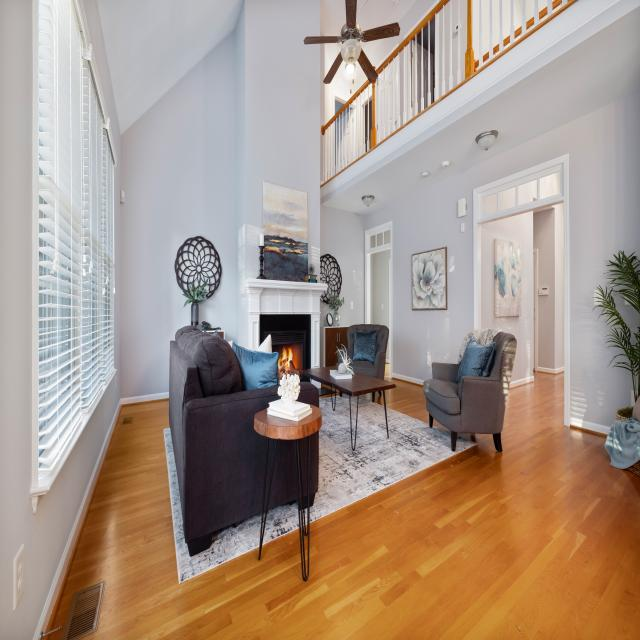floor: (42, 371, 640, 640), (384, 363, 429, 425), (374, 391, 384, 407), (359, 393, 372, 402), (321, 383, 331, 390), (319, 394, 331, 399), (336, 389, 340, 396), (331, 387, 335, 392), (332, 393, 335, 397), (342, 392, 345, 395)
wall: (364, 89, 640, 428), (321, 6, 640, 215), (120, 28, 239, 399), (245, 0, 320, 283), (481, 211, 535, 389), (320, 205, 365, 327), (235, 0, 249, 349), (374, 0, 438, 67), (533, 206, 556, 375), (412, 246, 447, 310), (551, 203, 564, 375), (325, 77, 359, 125), (540, 172, 561, 200), (518, 179, 537, 207), (498, 186, 516, 212), (320, 298, 335, 327), (482, 193, 497, 216)
